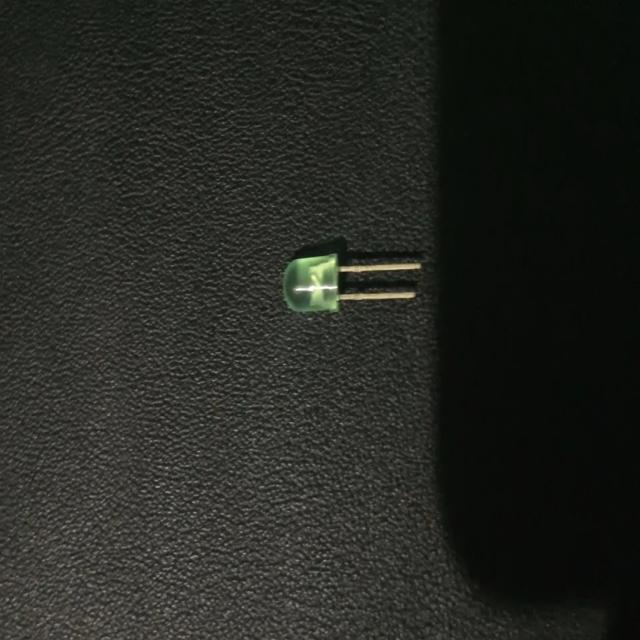LED: (283, 253, 423, 315)
